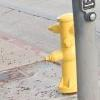a fire hydrant: (47, 10, 79, 94)
